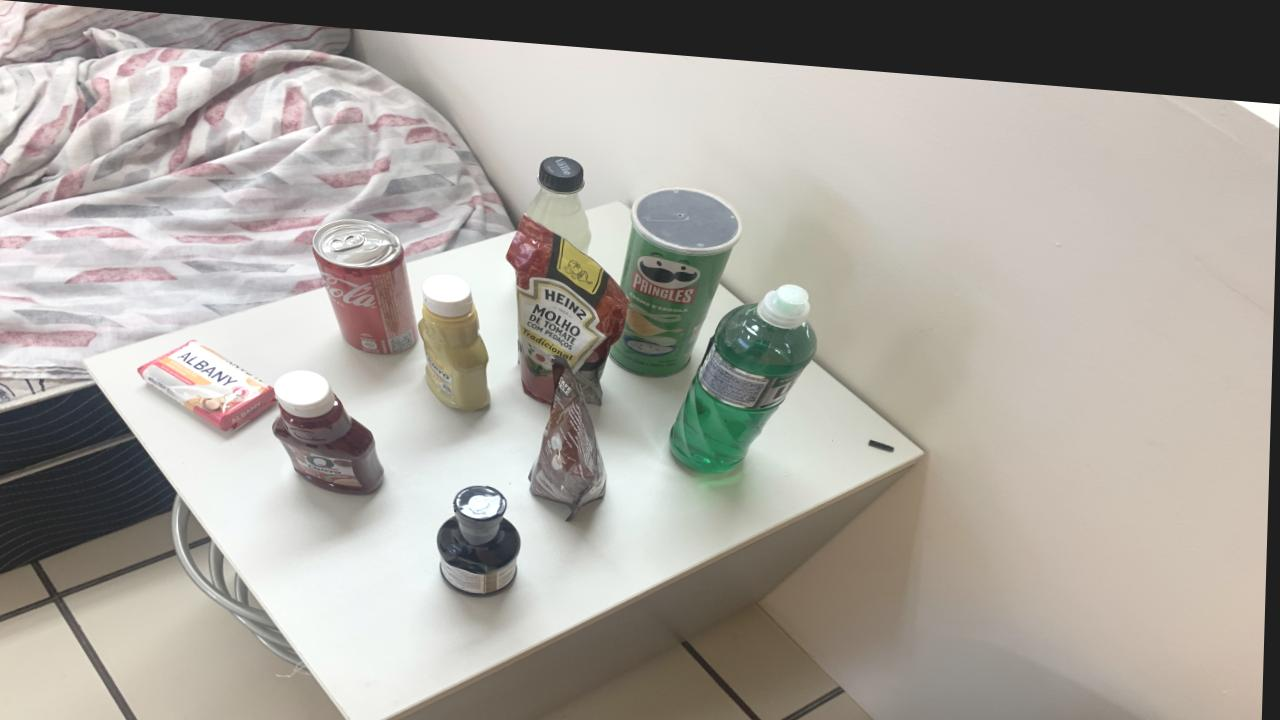Coffee-Pantry_Items: (532, 346, 608, 510)
Coke-Drinks: (315, 212, 418, 348)
Detergent-Cleanup_Items: (673, 270, 819, 460)
English_Sauce-Pantry_Items: (441, 478, 524, 589)
Ketchup-Pantry_Items: (275, 365, 387, 488)
Mustard-Pantry_Items: (421, 267, 492, 402)
Pringles-Snacks: (613, 175, 744, 365)
Soap-Cleanup_Items: (142, 337, 279, 426)
Soda-Drinks: (526, 146, 593, 242)
Tomato_Sauce-Pantry_Items: (507, 206, 629, 393)
